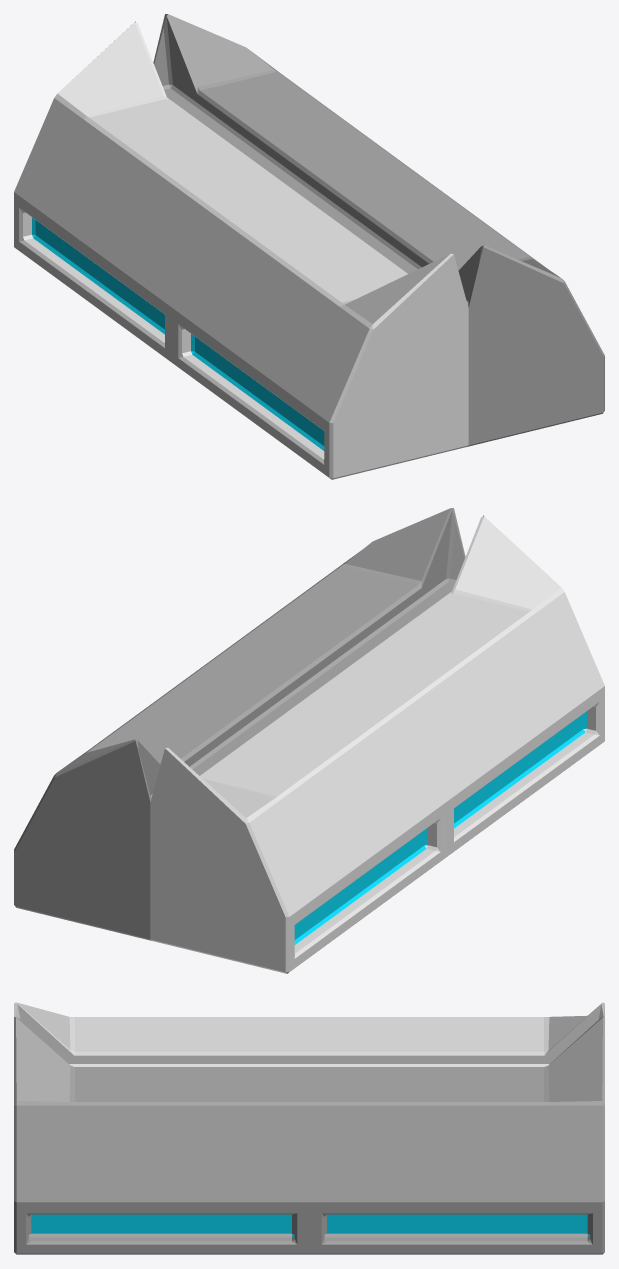
File: Wall_FenetreBrokenBottom.fbx
3 renders of one model, top to bottom at view 1: azimuth 30°, elevation 25°; view 2: azimuth 150°, elevation 25°; view 3: azimuth 270°, elevation 25°, orthographic. The views are drawn at different scales.
Visible parts, largest first — view 1: Wall_FenetreBrokenBottom; view 2: Wall_FenetreBrokenBottom; view 3: Wall_FenetreBrokenBottom.
Part boxes in pixels (left/top/right/bottom): Wall_FenetreBrokenBottom: left=14, top=14, right=604, bottom=479; Wall_FenetreBrokenBottom: left=14, top=508, right=604, bottom=973; Wall_FenetreBrokenBottom: left=14, top=1002, right=604, bottom=1254.
Size of the model in its own units: 200 by 137 by 400.
